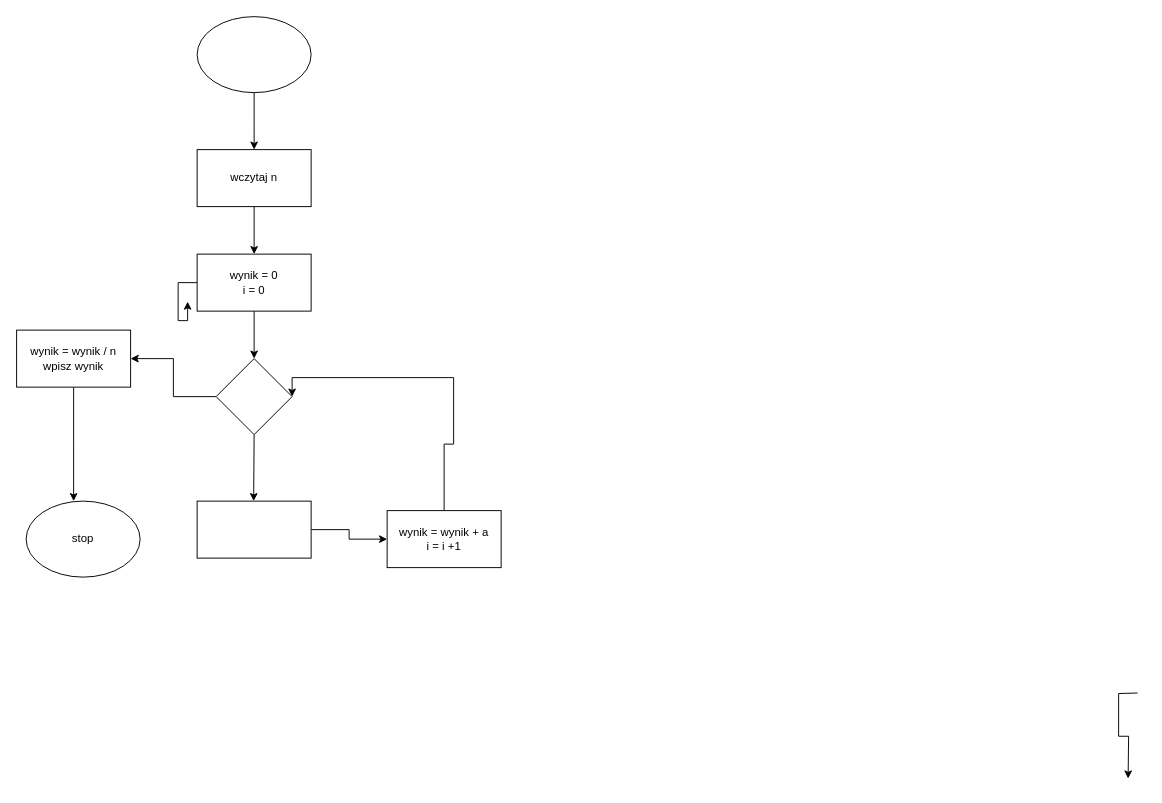
Image size: 1162x803. Some labels were removed from this diagram. Here are the shapes that lost their labels. From the top down, the centre of each, then its label:
point (253, 54): start
point (253, 396): i < n
point (253, 529): wczytaj a
